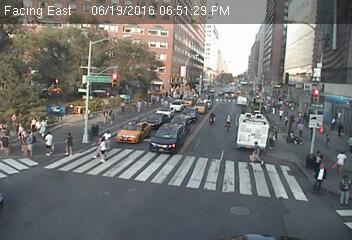neg: (220, 109, 238, 133), (73, 101, 87, 120), (285, 129, 299, 147), (207, 111, 219, 127)
pos: (309, 161, 334, 193), (56, 127, 79, 158), (333, 173, 351, 208), (92, 134, 113, 162), (245, 137, 266, 164), (38, 130, 58, 157), (331, 146, 351, 173), (22, 129, 39, 152), (335, 120, 347, 137), (17, 131, 29, 147), (100, 127, 112, 142), (322, 132, 333, 147), (297, 120, 308, 135), (329, 115, 340, 129), (313, 149, 323, 163), (15, 121, 25, 134), (278, 107, 286, 119)
